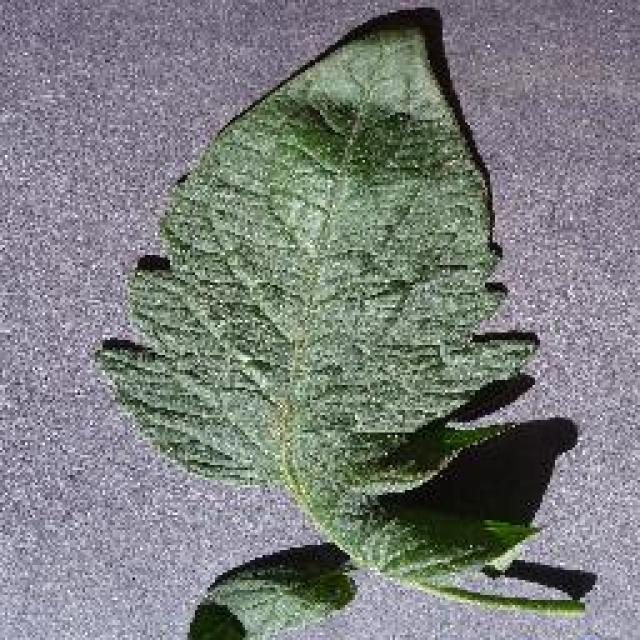healthy: (103, 24, 582, 639)
